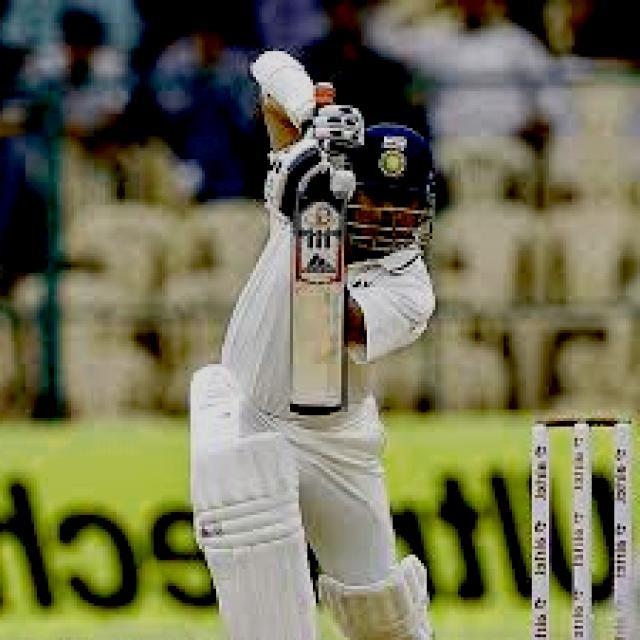bat: (285, 191, 350, 419)
toe: (287, 401, 349, 417)
